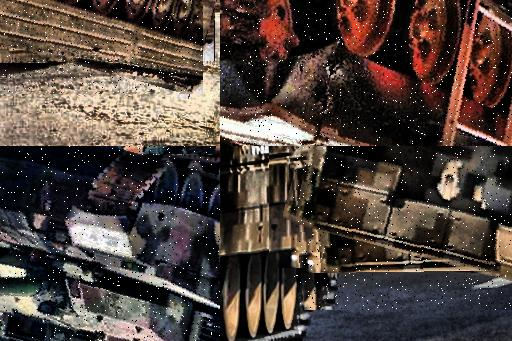tanks: (1, 147, 221, 341), (221, 1, 512, 147), (294, 147, 512, 282), (221, 147, 340, 341), (1, 1, 203, 94)
